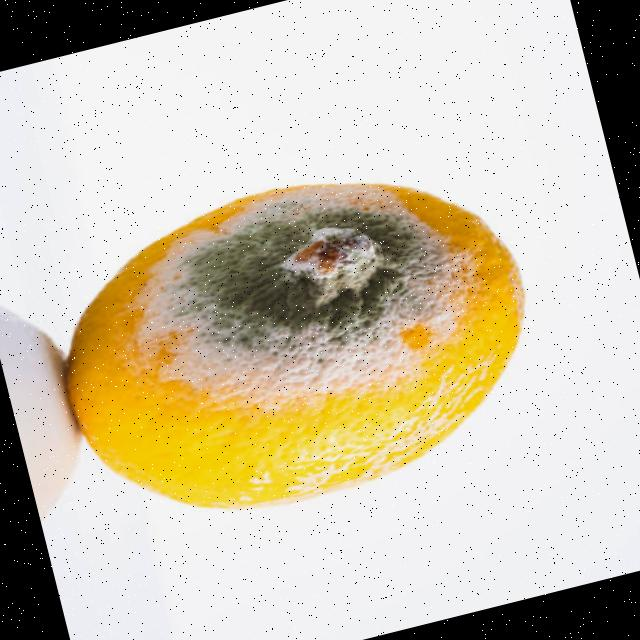Rotten: (31, 130, 565, 550)
